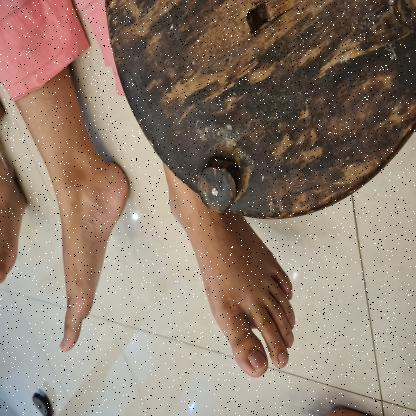leg: (11, 65, 139, 361), (158, 155, 303, 385)
